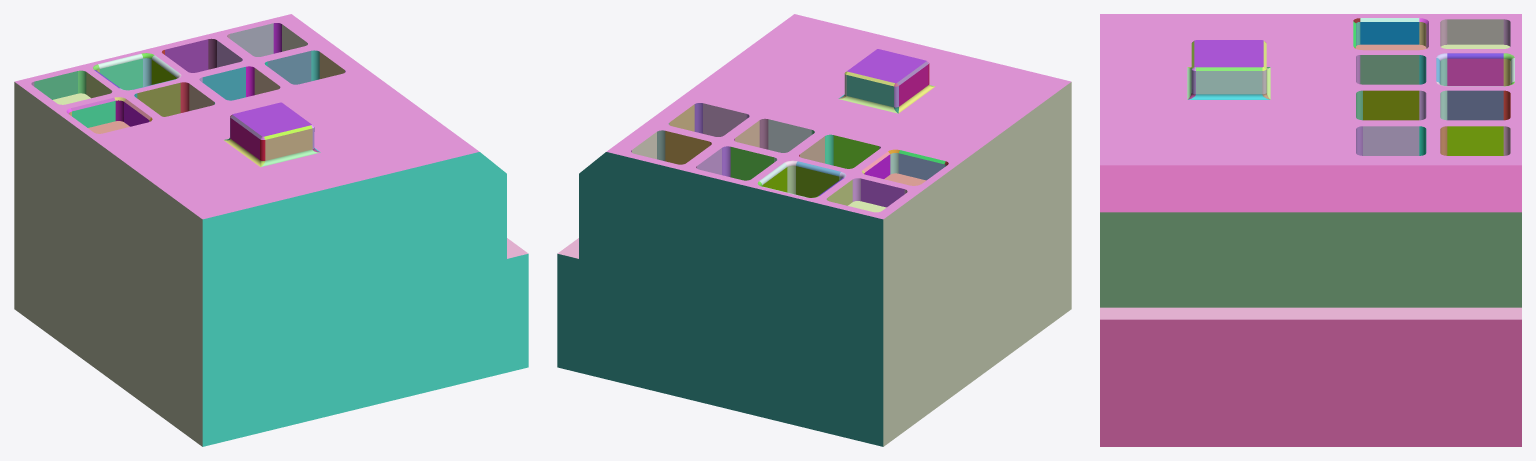
File: colored_glb.glb
The picture shows the model from 3 angles, left to right: view 1: azimuth 30°, elevation 25°; view 2: azimuth 150°, elevation 25°; view 3: azimuth 270°, elevation 25°; orthographic projection. The views are drawn at different scales.
Parts seen in each view (by area): view 1: Product 1; view 2: Product 1; view 3: Product 1.
Boxes of the visible parts, x1,y1,x2,y2 form: Product 1: (14,14,528,446); Product 1: (557,14,1071,446); Product 1: (1100,14,1521,446).
Bounding box in the file's own units: 300 × 223 × 300.
